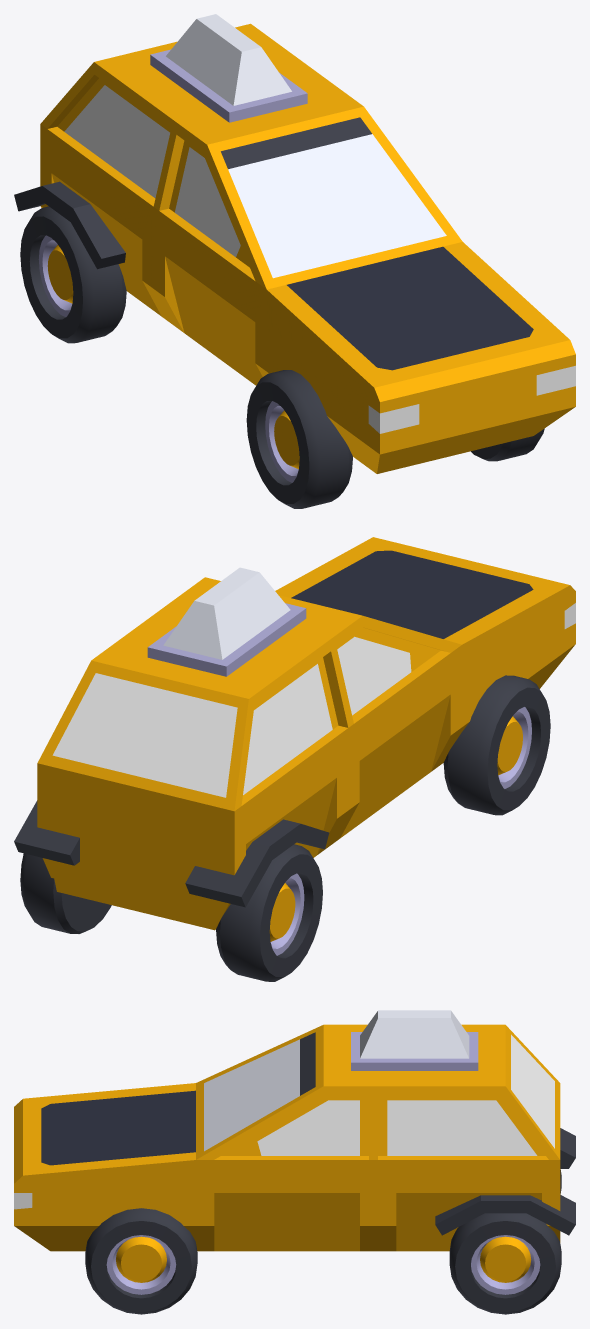
Rendered from Taxi.fbx.
3 views of the same model, one above another, from view 1: azimuth 30°, elevation 25°; view 2: azimuth 150°, elevation 25°; view 3: azimuth 270°, elevation 25° (orthographic). The views are drawn at different scales.
Visible parts, largest first — view 1: body_frontStandard, body_topSports, wheel_classic (×3), body_edge (×2), body_topBackStation, detail_taxi, wheel_coverSquare; view 2: body_edge (×2), body_topBackStation, body_frontStandard, wheel_classic (×3), body_topSports, detail_taxi, wheel_coverSquare (×2); view 3: body_edge (×2), body_frontStandard, body_topSports, wheel_classic (×2), body_topBackStation, detail_taxi, wheel_coverSquare (×2).
Part boxes in pixels (bbox=[...]): body_frontStandard: bbox=[266, 242, 575, 473]; body_topSports: bbox=[153, 81, 462, 289]; wheel_classic (×3): bbox=[20, 206, 544, 508]; body_edge (×2): bbox=[40, 124, 267, 385]; body_topBackStation: bbox=[40, 23, 329, 198]; detail_taxi: bbox=[150, 14, 307, 122]; wheel_coverSquare: bbox=[14, 181, 125, 269]; body_edge (×2): bbox=[37, 645, 462, 930]; body_topBackStation: bbox=[37, 602, 338, 811]; body_frontStandard: bbox=[275, 537, 575, 762]; wheel_classic (×3): bbox=[20, 675, 550, 981]; body_topSports: bbox=[171, 577, 461, 727]; detail_taxi: bbox=[147, 567, 306, 676]; wheel_coverSquare (×2): bbox=[14, 800, 329, 907]; body_edge (×2): bbox=[196, 1156, 560, 1251]; body_frontStandard: bbox=[14, 1083, 195, 1251]; body_topSports: bbox=[196, 1024, 377, 1159]; wheel_classic (×2): bbox=[85, 1208, 561, 1314]; body_topBackStation: bbox=[378, 1024, 560, 1159]; detail_taxi: bbox=[351, 1010, 478, 1070]; wheel_coverSquare (×2): bbox=[435, 1128, 575, 1235].
Size of the model in its own units: 12.16 by 15.58 by 30.87.
